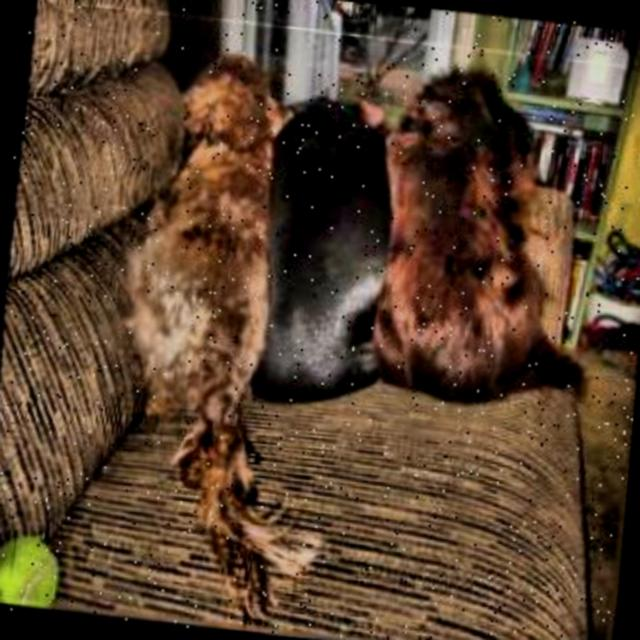tennis-ball: (0, 530, 60, 609)
